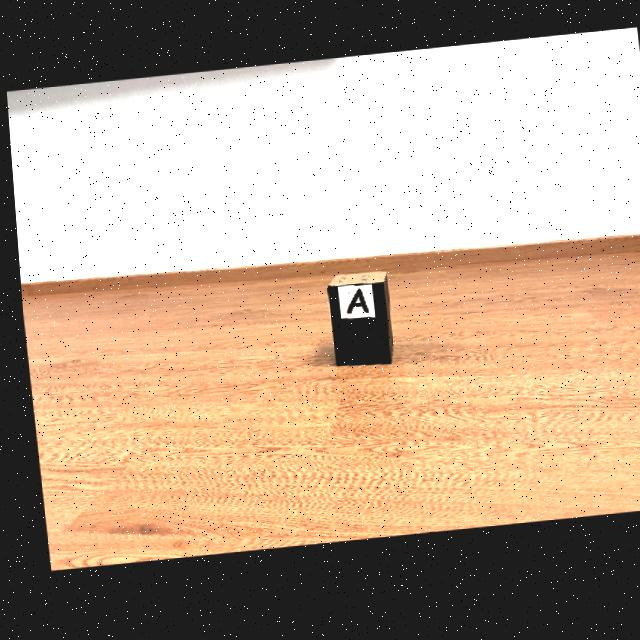A: (341, 293, 364, 319)
